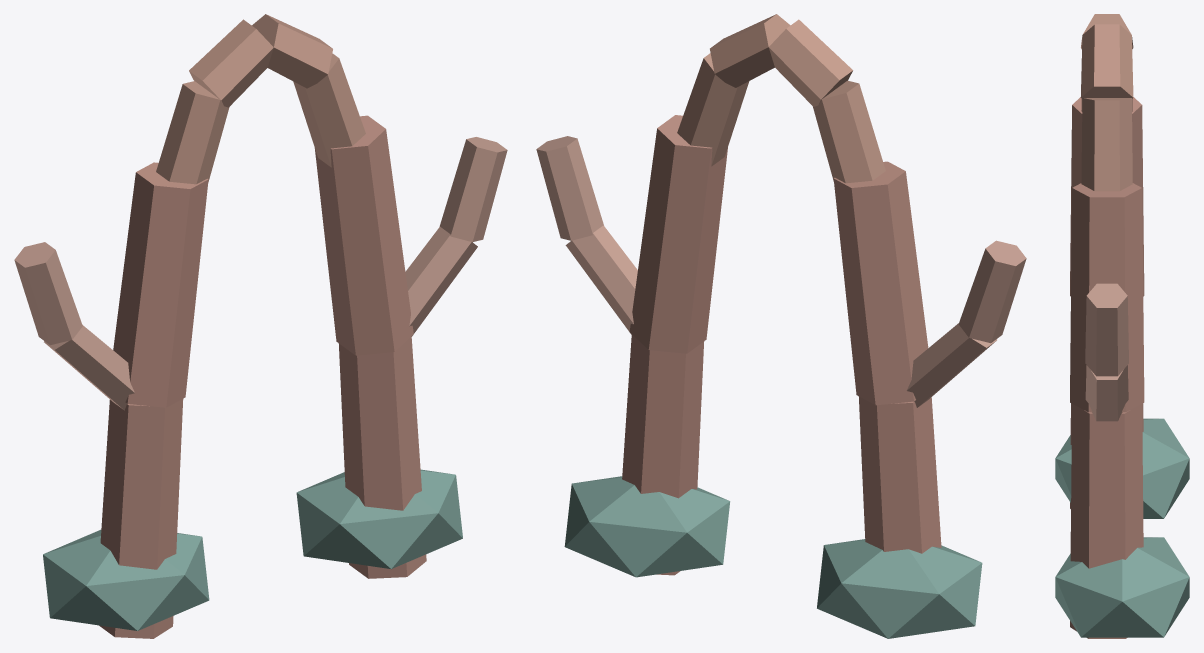
File: map-exclusive-v3__tide_01.glb
3 views of the same model, side by side, from view 1: azimuth 30°, elevation 25°; view 2: azimuth 150°, elevation 25°; view 3: azimuth 270°, elevation 25° (orthographic). The views are drawn at different scales.
Visible parts, largest first — view 1: tide_01; view 2: tide_01; view 3: tide_01.
Boxes of the visible parts, left/top/right/bottom form: tide_01: left=14, top=14, right=507, bottom=638; tide_01: left=536, top=14, right=1026, bottom=638; tide_01: left=1055, top=14, right=1189, bottom=638.
Bounding box in the file's own units: 2.43 × 2.8 × 0.6125.
